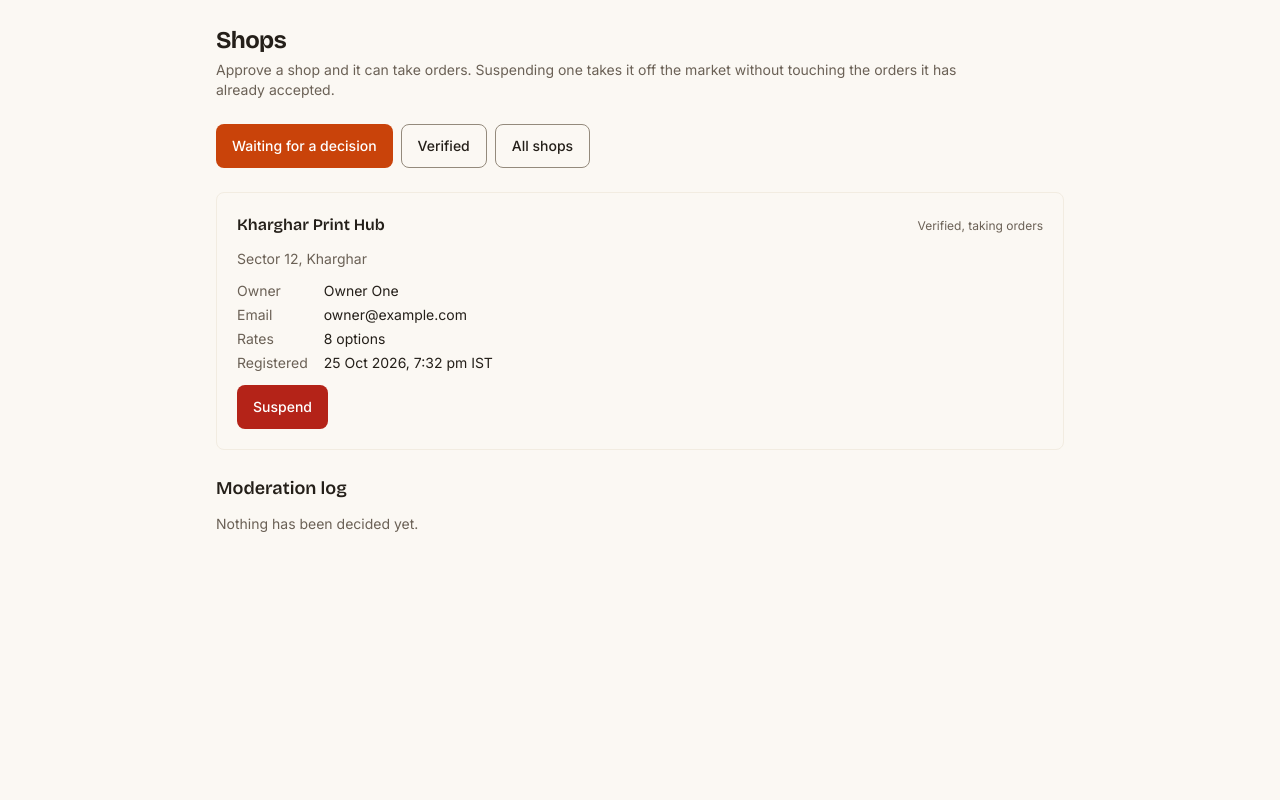
Scenario: AdminShopsPage › asks for a reason before suspending a shop
What coordinates should you click on to do the following:
click the button "Suspend"
I would click on:
 (282, 407)
Its box is 237,385 -> 328,429.
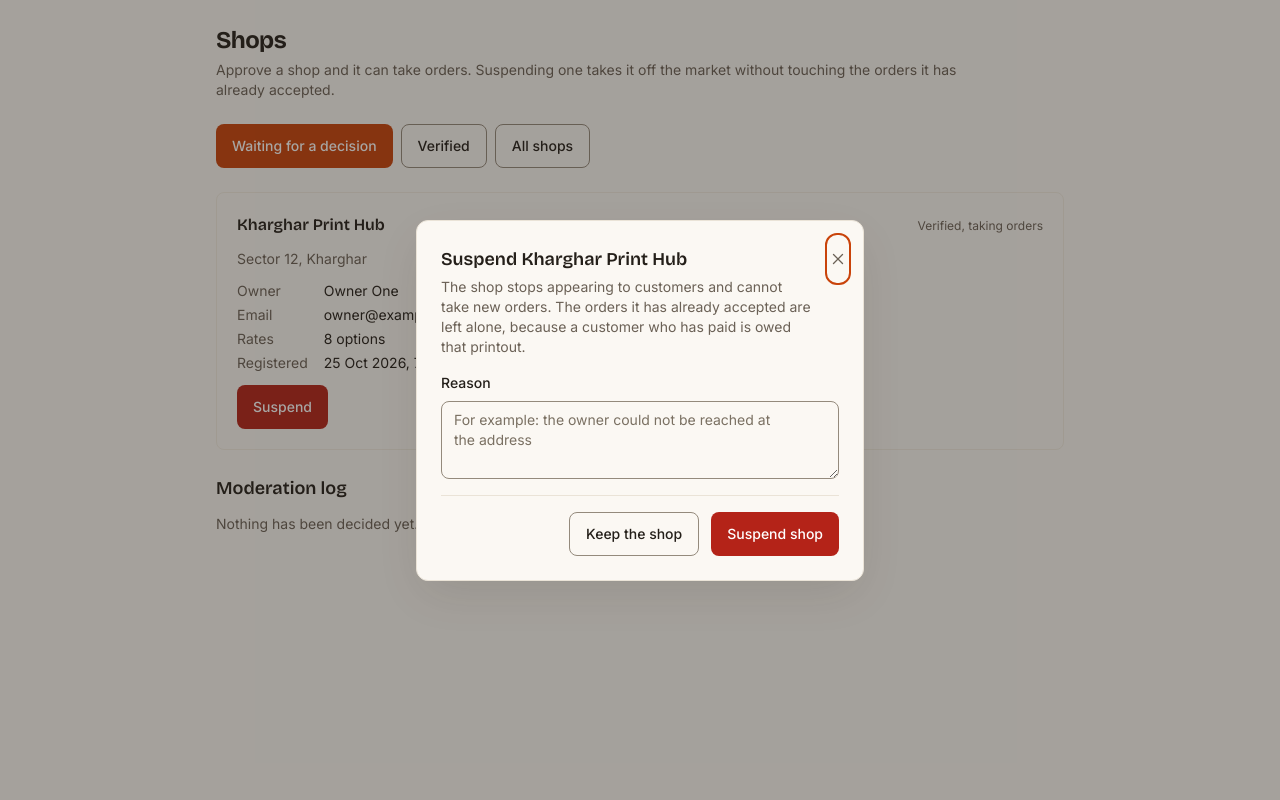
expect the heading "Suspend Kharghar Print Hub" is shown: met, box 441,248 -> 687,270
expect the text box labelled "Reason" is shown: met, box 441,400 -> 839,478
